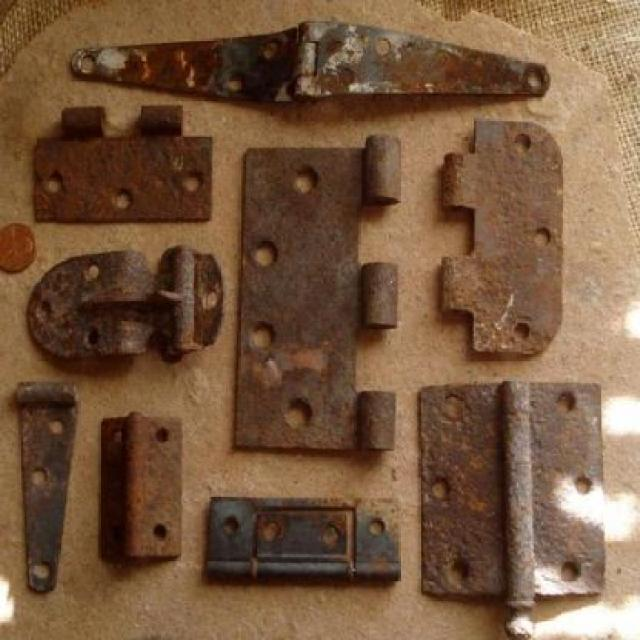corrosion: (17, 14, 608, 611)
